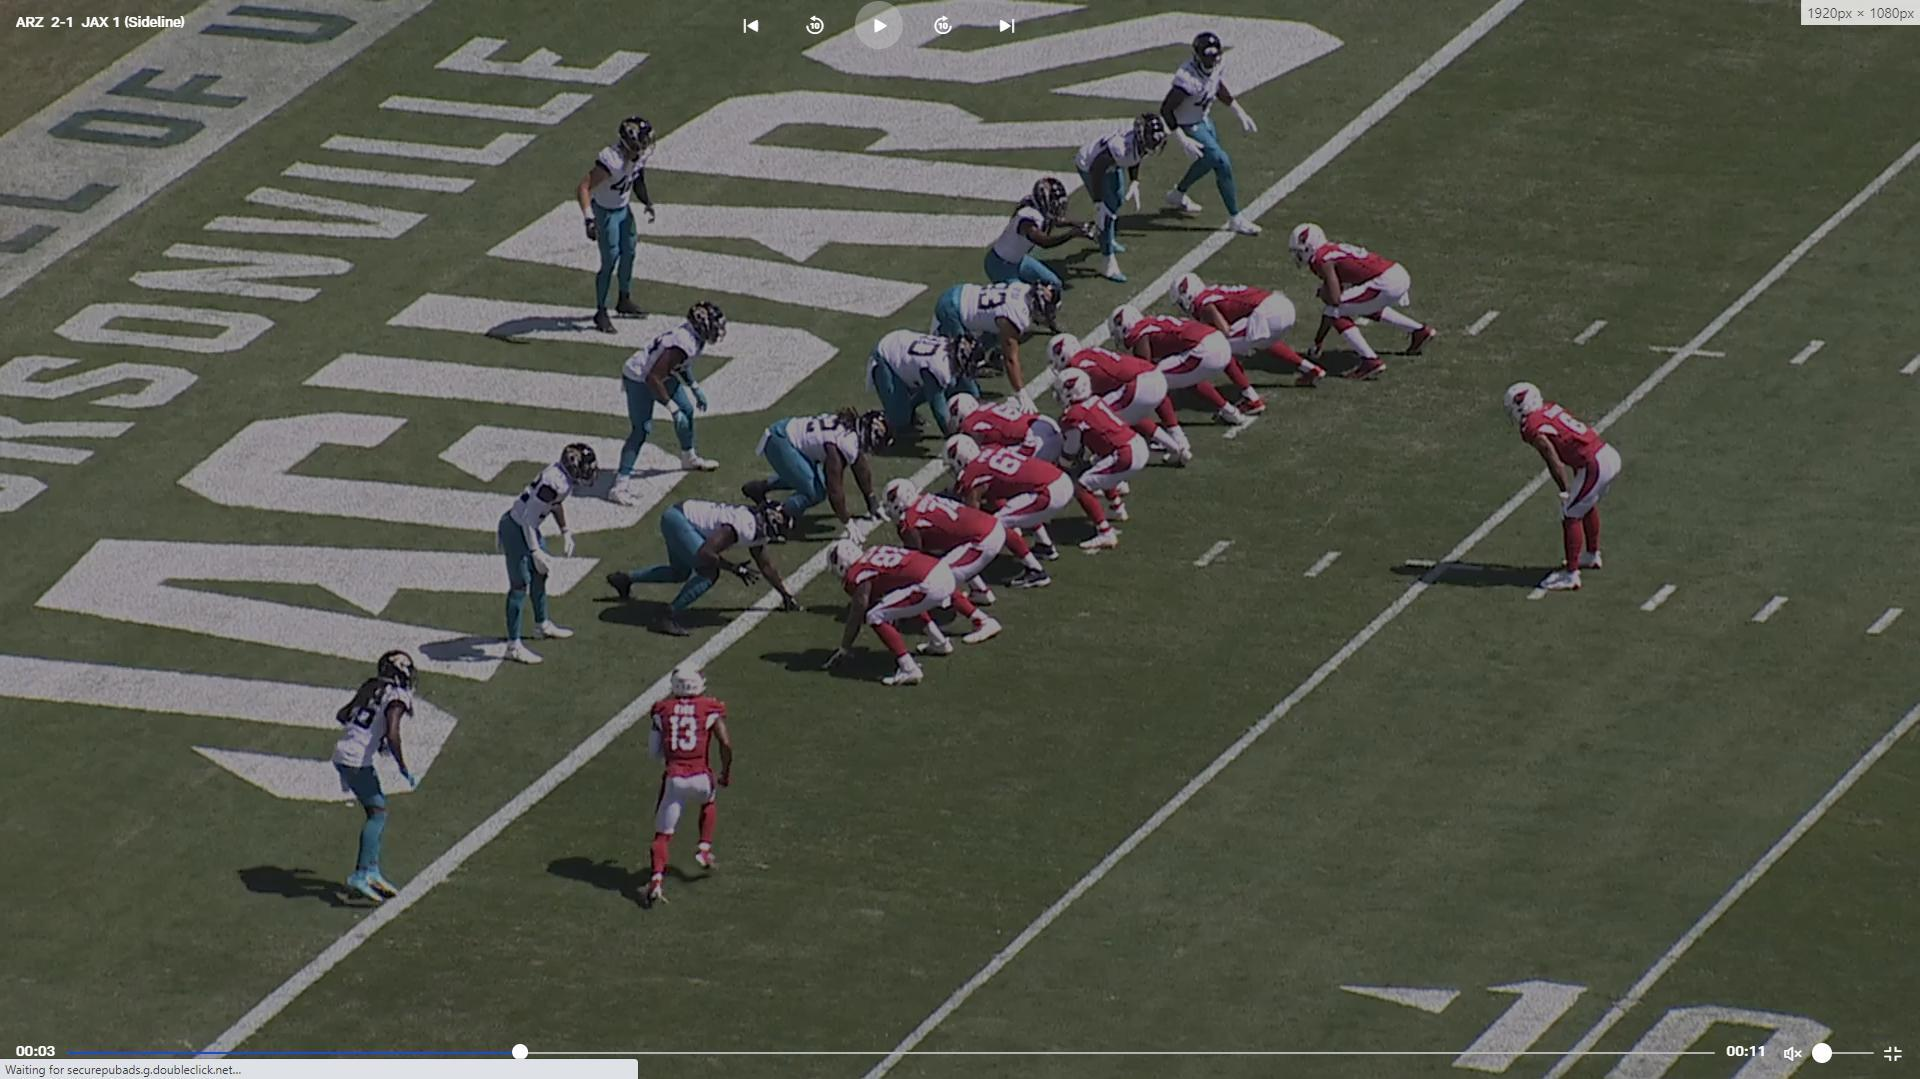player: (1151, 16, 1290, 243), (1297, 228, 1446, 388), (337, 647, 427, 910), (1518, 386, 1626, 594), (641, 664, 730, 896), (1183, 282, 1328, 424), (1052, 335, 1190, 479), (641, 491, 794, 619), (507, 446, 594, 669), (886, 483, 1003, 646), (836, 544, 958, 698), (575, 113, 659, 336), (951, 435, 1072, 589), (1051, 112, 1151, 294), (1110, 310, 1239, 443), (633, 303, 727, 479), (989, 176, 1077, 360), (756, 411, 886, 529), (1057, 377, 1141, 556), (848, 329, 971, 451), (920, 278, 1036, 389), (944, 395, 1043, 449)
